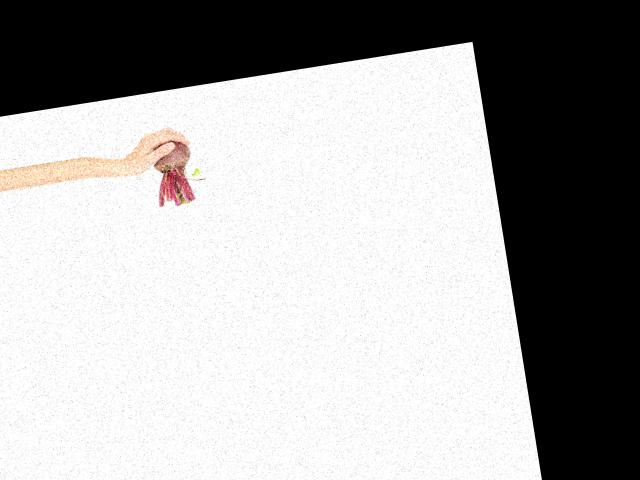beet: (150, 135, 210, 208)
